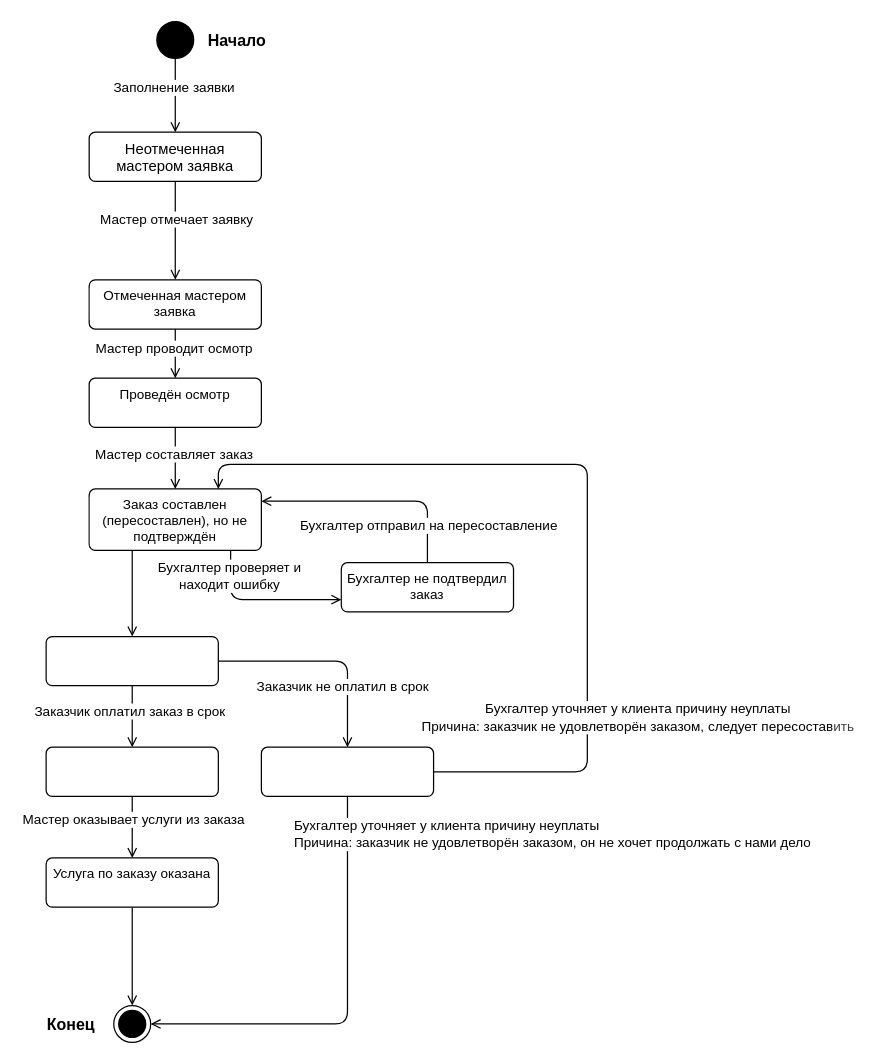
Some shapes in this 875 by 1064 pixel diagram are drawn without their labels. Here are the shapes that lost their labels. From the top down, the centre of each, then its label:
At point (131, 660): "Заказ подтверждён".
At point (131, 771): "Заказ оплачен".
At point (347, 771): "Заказ не оплачен и теперь отменён".
